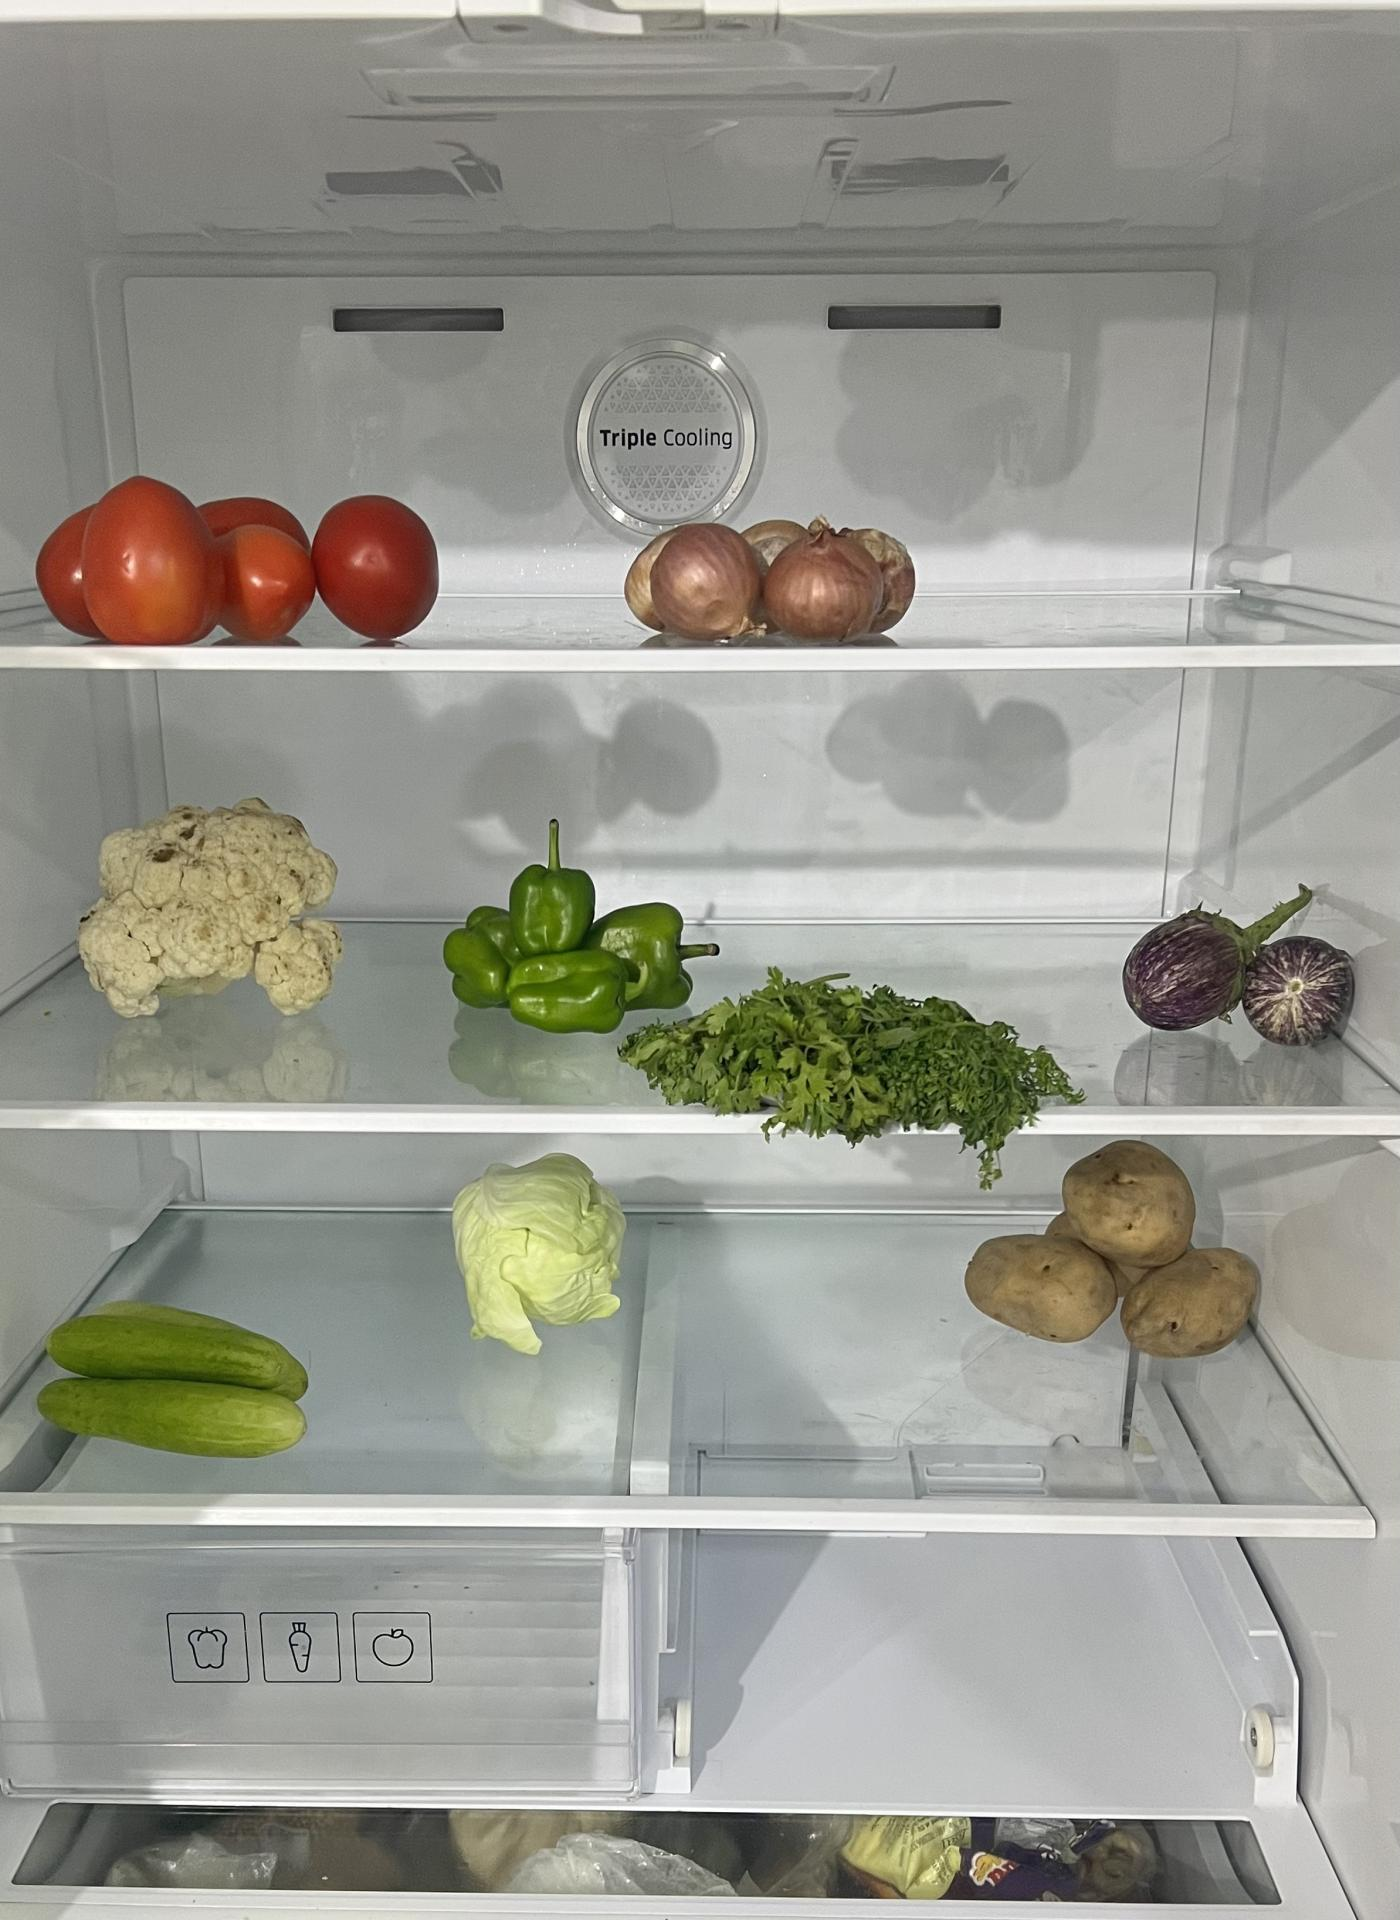brinjal: (1123, 900, 1358, 1055)
cabbage: (452, 1158, 626, 1354)
capsicum: (449, 866, 698, 1038)
cauliflower: (78, 798, 341, 1011)
coriander: (632, 976, 1071, 1142)
cucumber: (25, 1301, 321, 1459)
onion: (623, 520, 917, 647)
potato: (969, 1143, 1266, 1360)
tomato: (31, 480, 443, 648)
